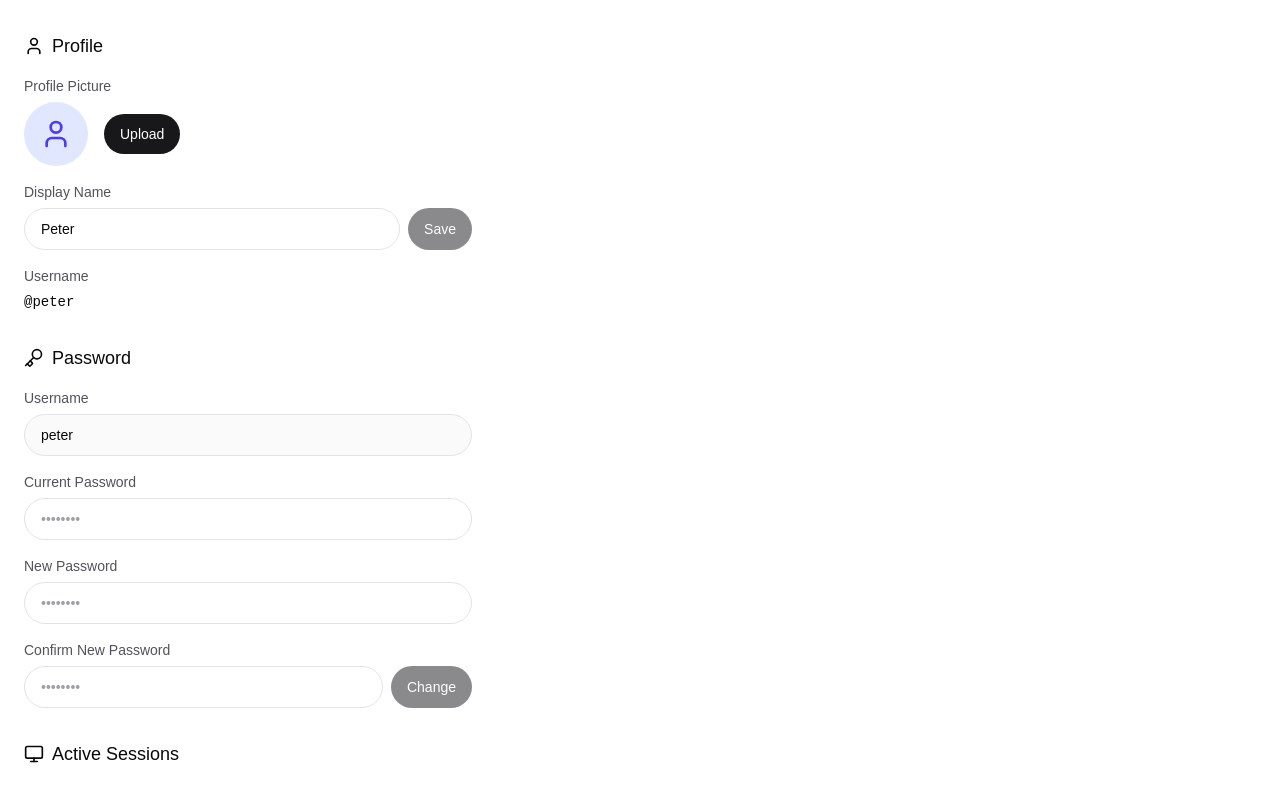
Test: SettingsSection › shows an error toast when the current password is wrong
Type "wrong-current" into the password field labelled "Current Password" at (248, 519), box x1=24 y1=498 x2=472 y2=540
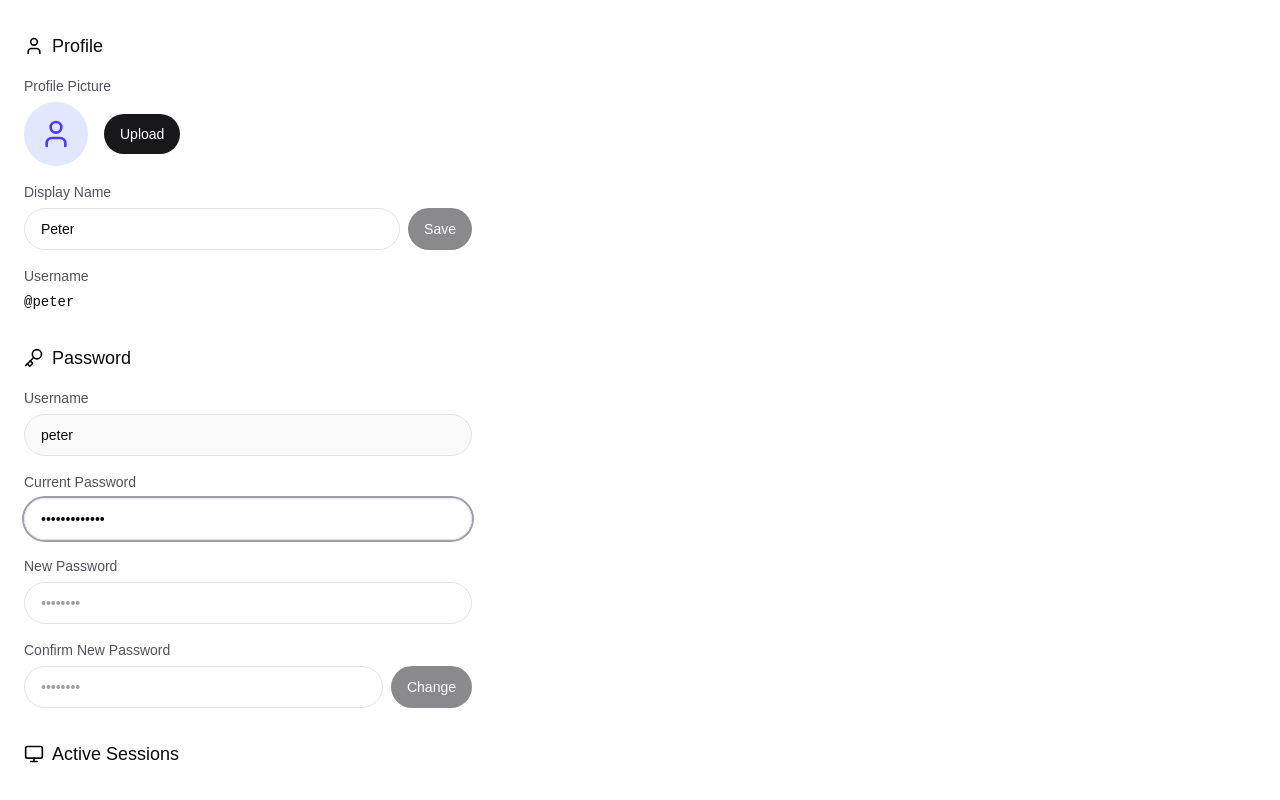
Type "new-pass" into the password field labelled "New Password" at (248, 603), box x1=24 y1=582 x2=472 y2=624
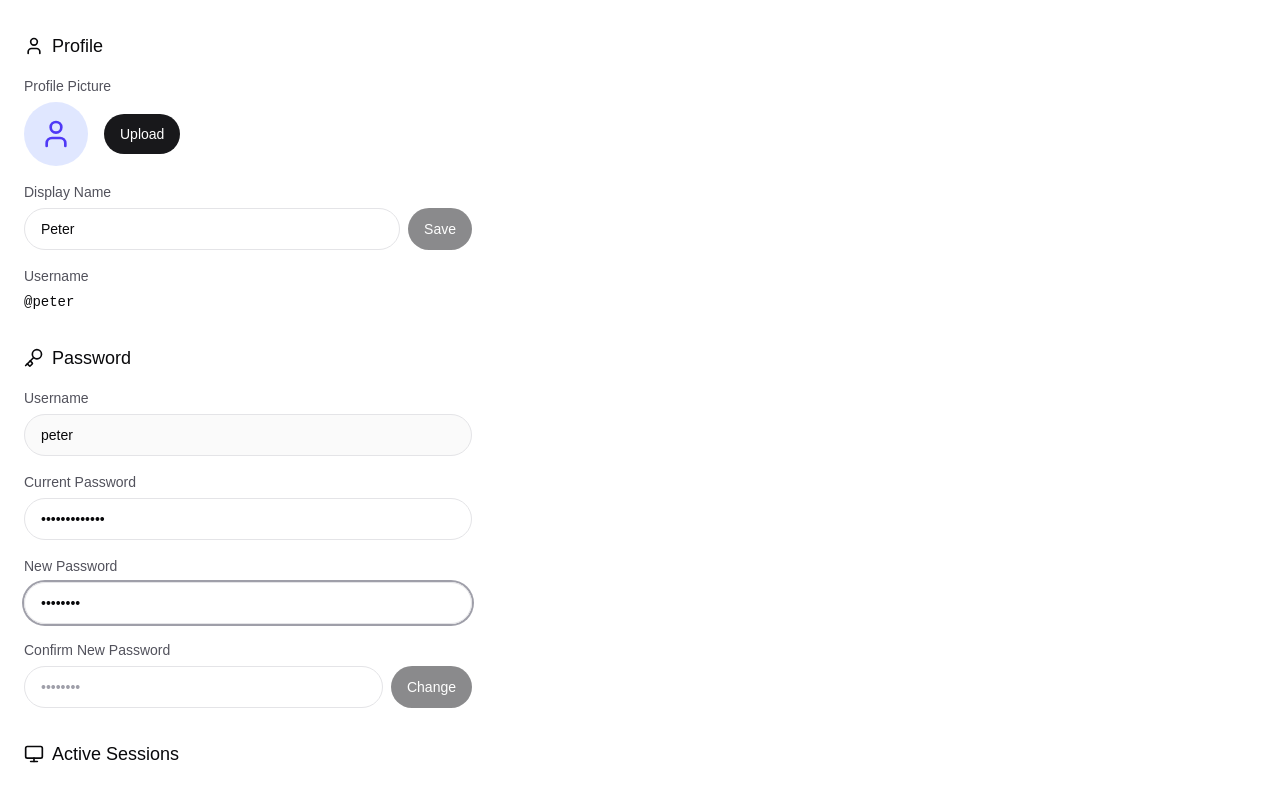
Type "new-pass" into the password field labelled "Confirm New Password" at (204, 687), box x1=24 y1=666 x2=383 y2=708
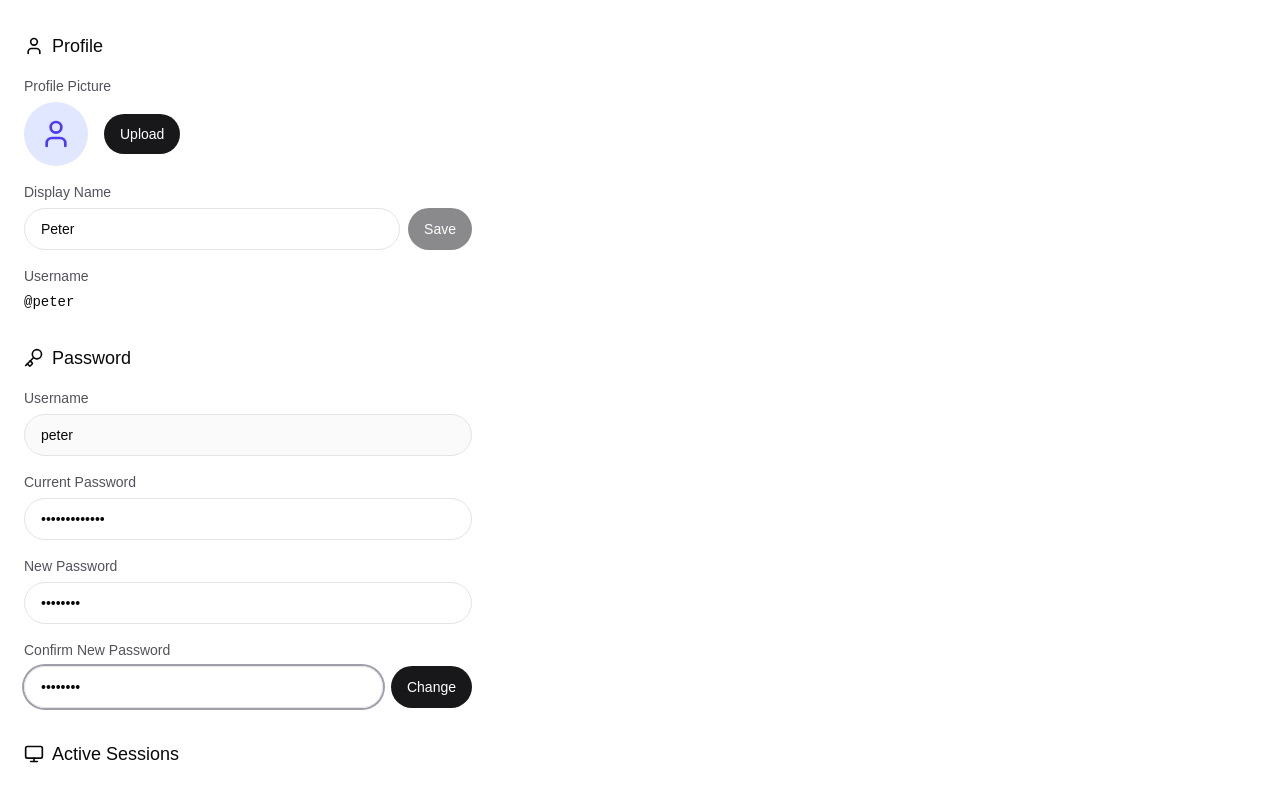
Click the button "Change" at (432, 687), box x1=391 y1=666 x2=472 y2=708
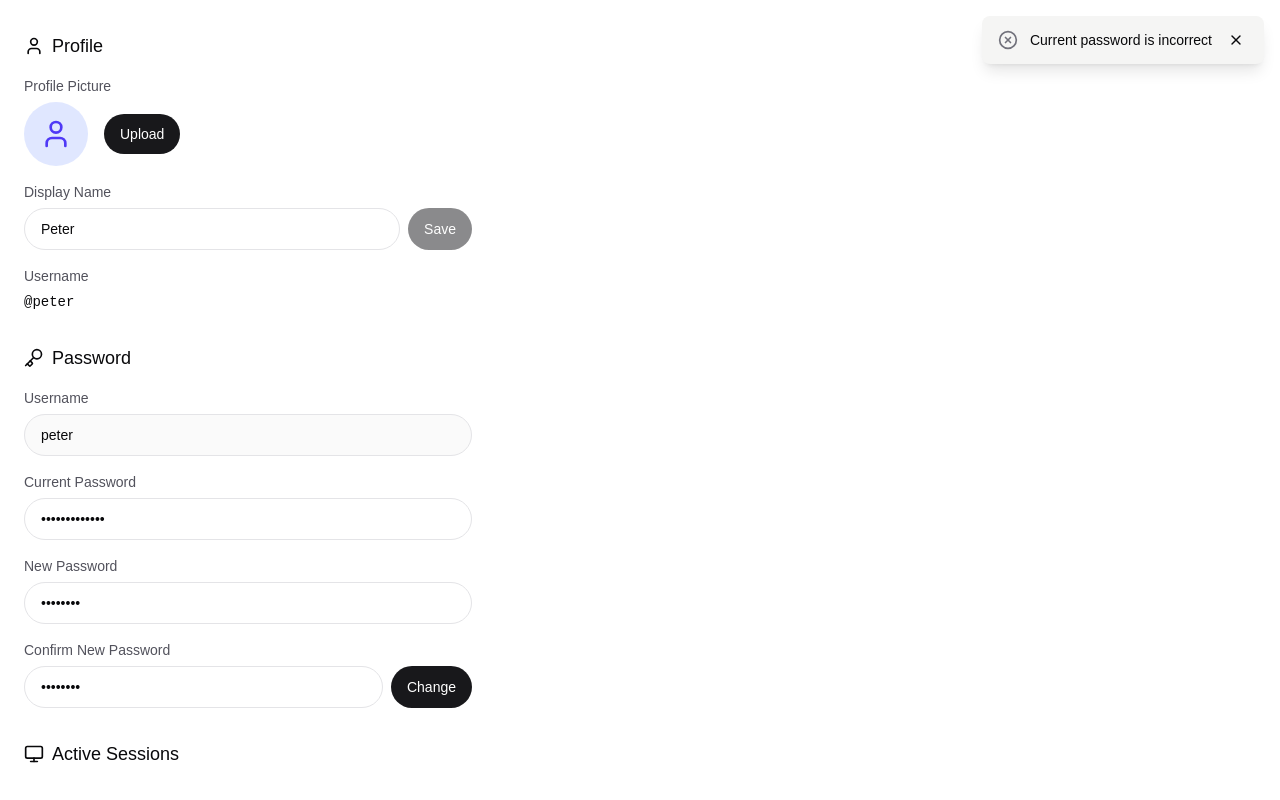
Check: the text "Current password is incorrect" is shown, box x1=1030 y1=30 x2=1212 y2=50
